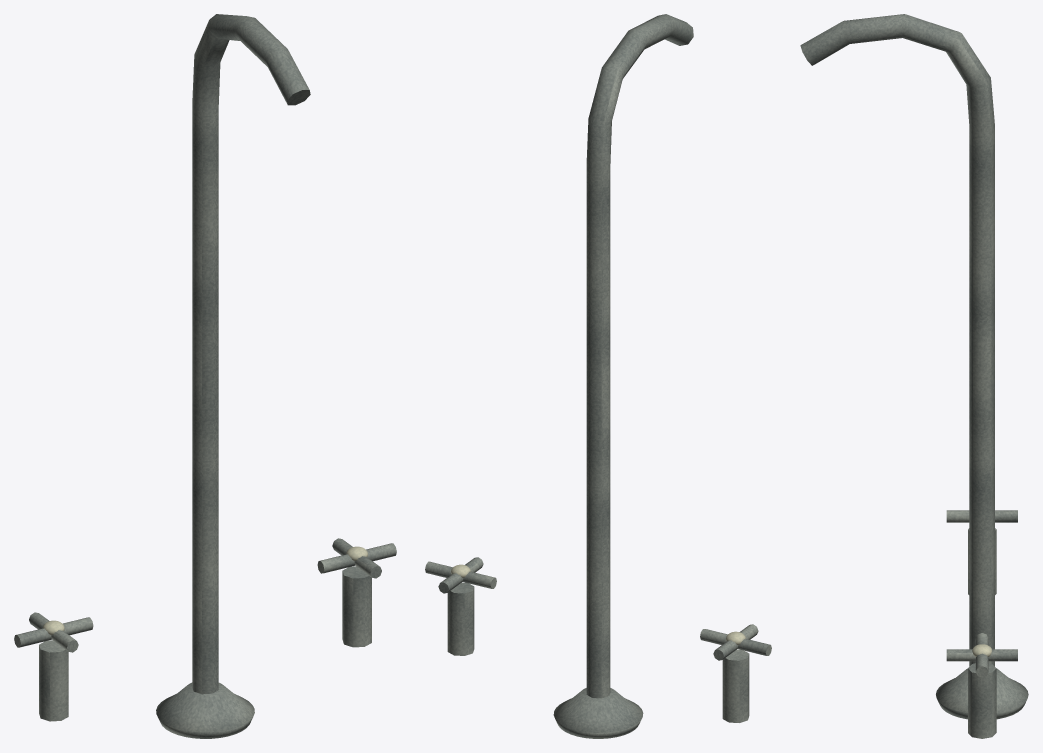
The model's file is BathTap.fbx.
3 renders of one model, left to right at view 1: azimuth 30°, elevation 25°; view 2: azimuth 150°, elevation 25°; view 3: azimuth 270°, elevation 25°, orthographic. The views are drawn at different scales.
Visible parts, largest first — view 1: BathTap_Chrome; view 2: BathTap_Chrome; view 3: BathTap_Chrome.
Boxes of the visible parts, x1,y1,x2,y2 form: BathTap_Chrome: (14,14,396,738); BathTap_Chrome: (425,14,771,738); BathTap_Chrome: (800,14,1028,738).
Bounding box in the file's own units: 57 × 106 × 31.97.
